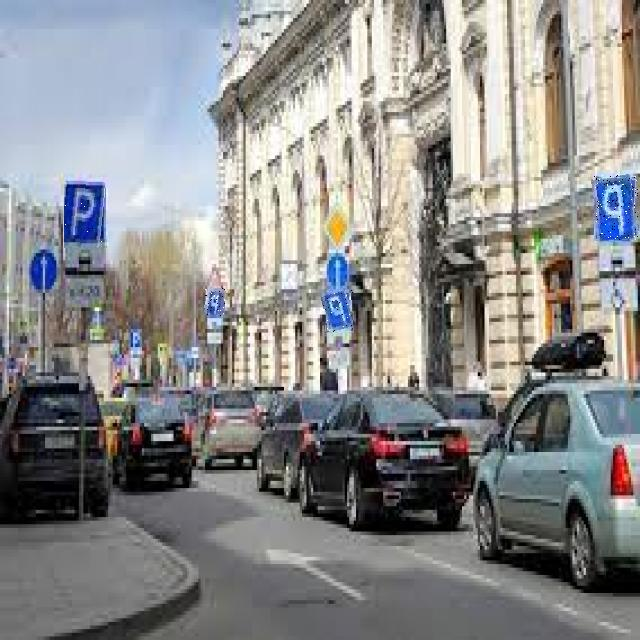parking: (64, 172, 107, 248), (594, 175, 638, 241), (323, 289, 353, 332), (205, 288, 225, 316)
